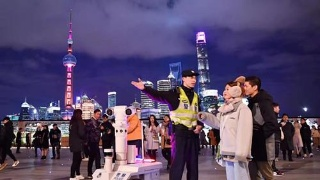no_mask: (220, 78, 245, 103), (178, 67, 198, 91), (245, 74, 263, 98)
